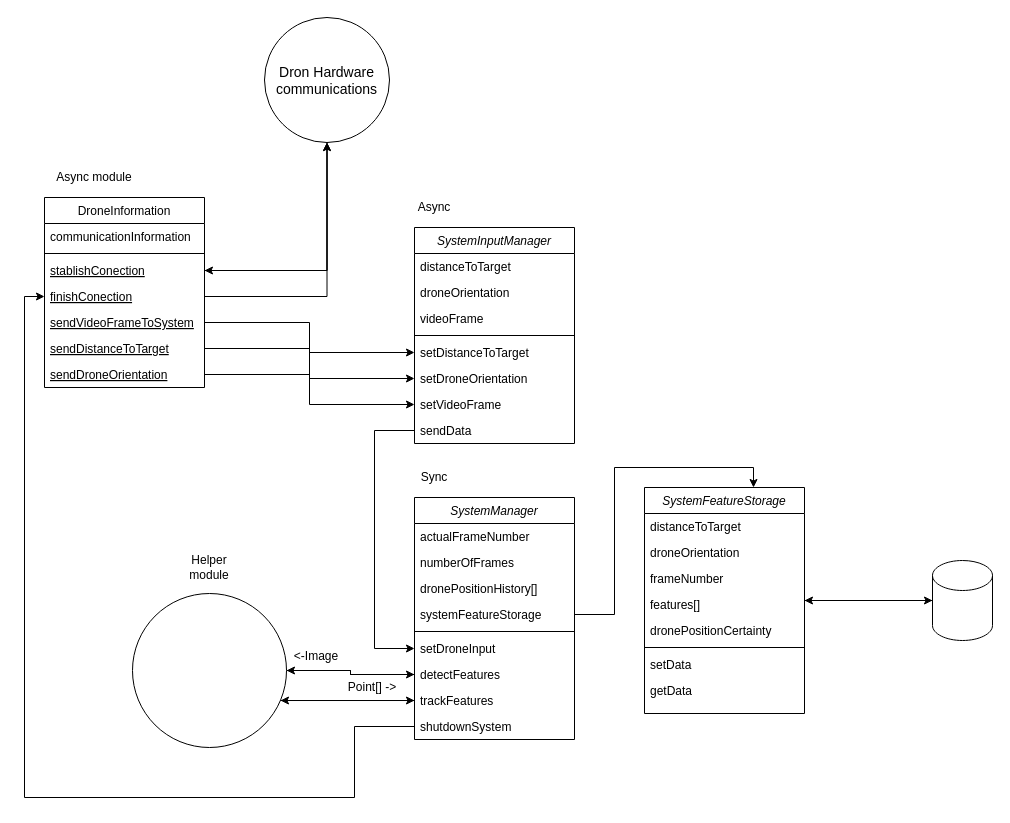
The diagram is 1010 pixels wide and 823 high, and some of its shapes have lost their labels. Each missing label, with the centre of its shape:
"Database" goes at point 962,600.
"SystemFeatureDetector SystemFeatureTracking" goes at point 209,670.
